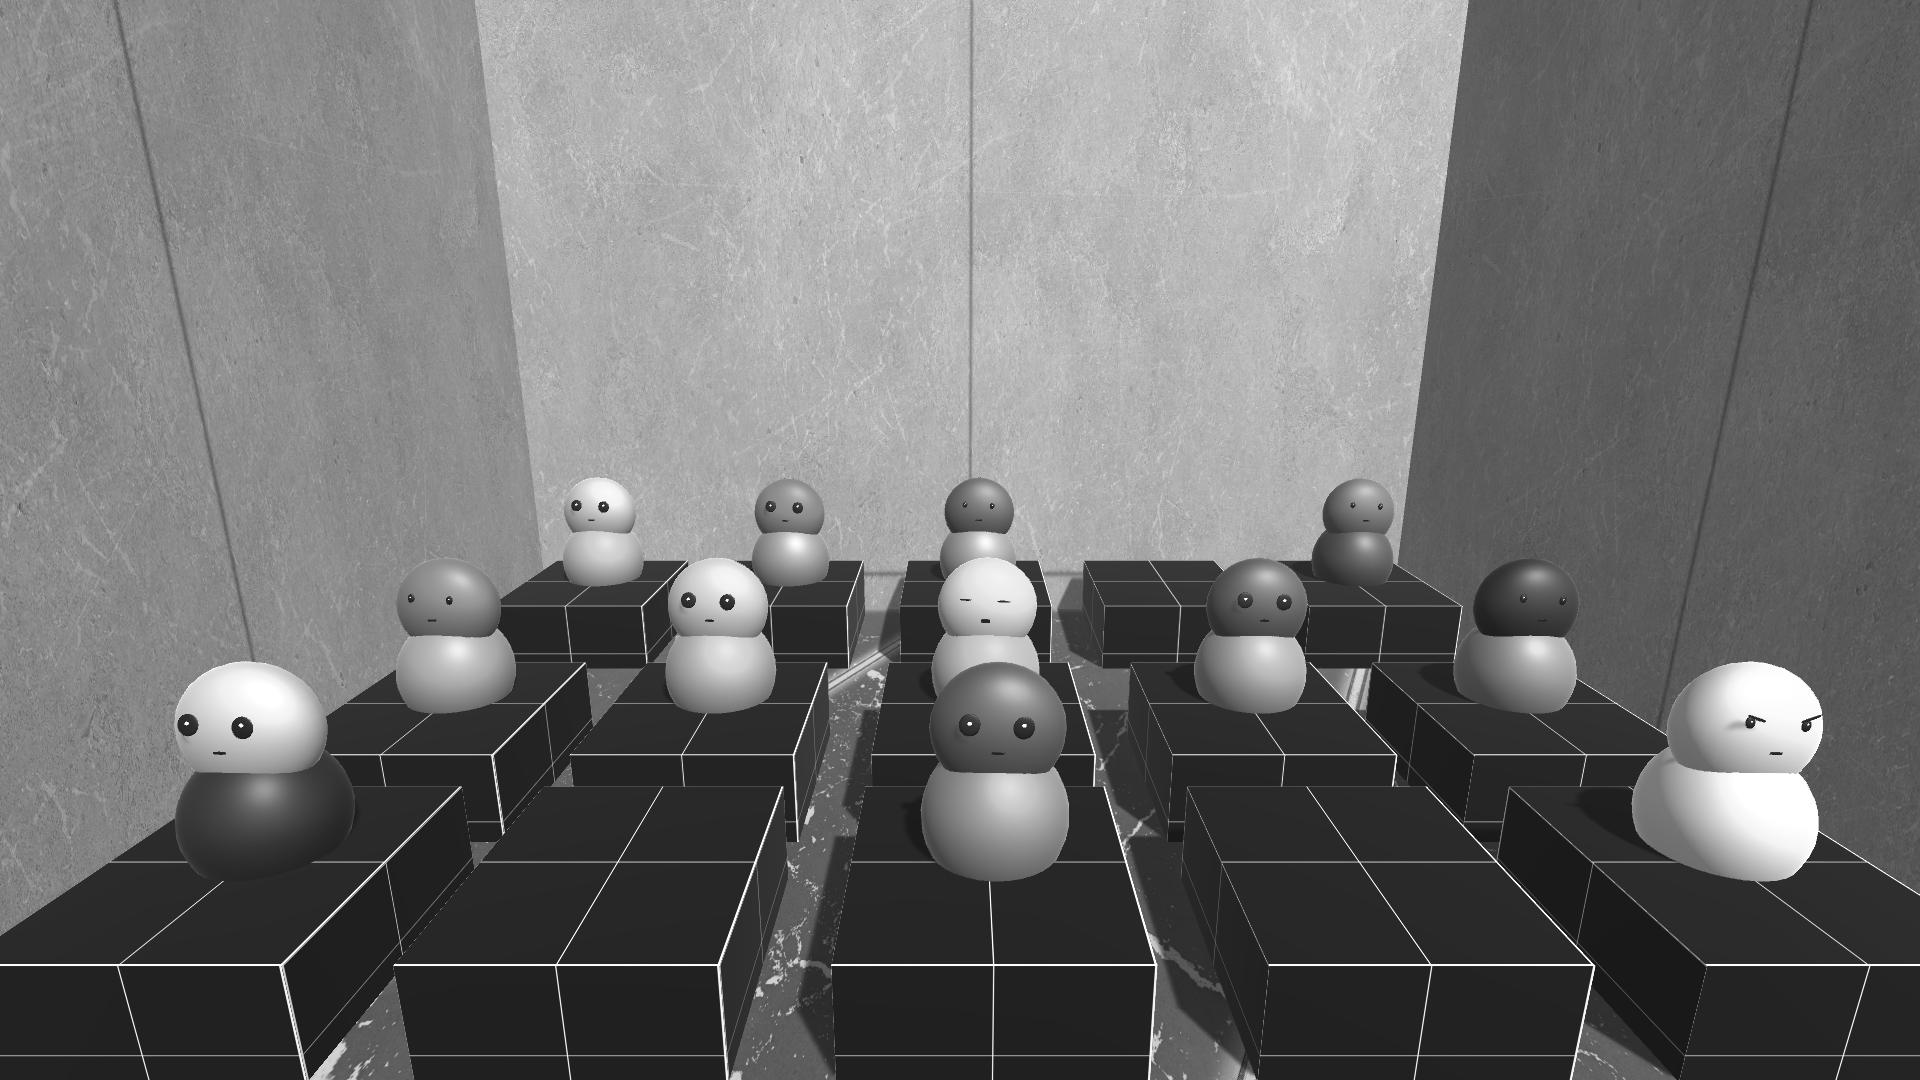blob_atento: (169, 655, 363, 864), (923, 663, 1084, 884), (649, 559, 774, 719), (1189, 550, 1305, 719), (741, 473, 843, 601), (549, 469, 655, 585)
blob_dormindo: (927, 560, 1048, 688)
blob_normal: (1453, 559, 1600, 723), (384, 553, 514, 721), (1307, 473, 1407, 589), (927, 469, 1023, 582)
blob_raiva: (1627, 650, 1832, 907)
